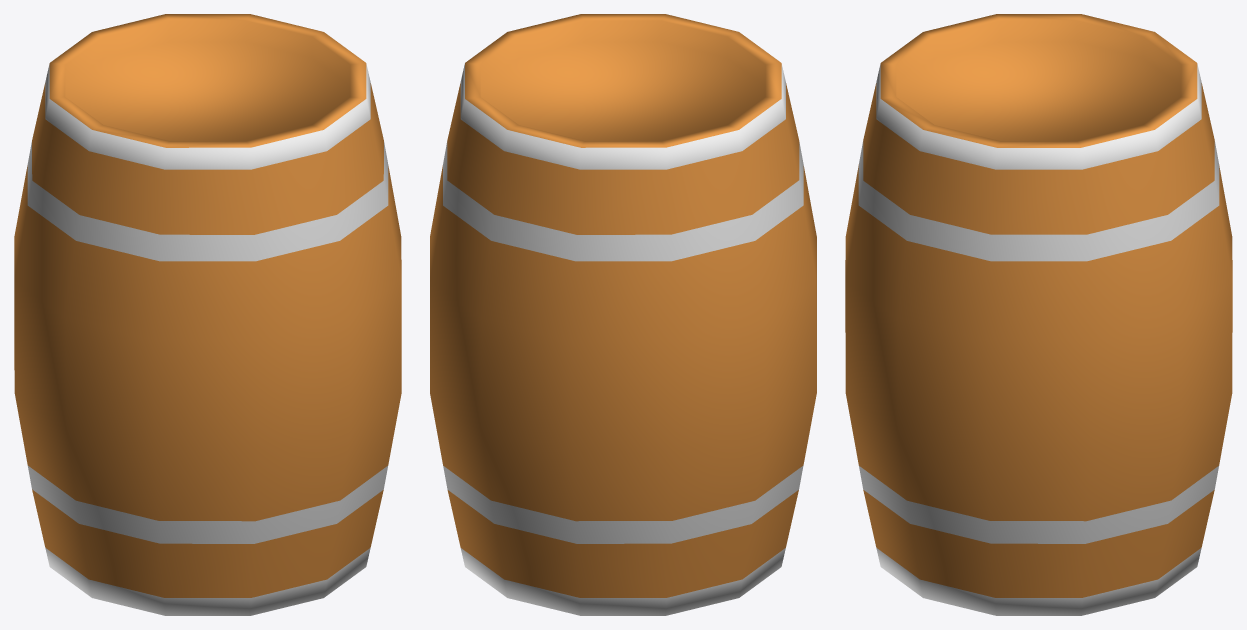
The model's file is Barrel.fbx.
3 views of the same model, side by side, from view 1: azimuth 30°, elevation 25°; view 2: azimuth 150°, elevation 25°; view 3: azimuth 270°, elevation 25° (orthographic).
Visible parts, largest first — view 1: Barrel; view 2: Barrel; view 3: Barrel.
Part boxes in pixels (box(x1,y1,x2,y2)): Barrel: box(14, 14, 401, 615); Barrel: box(430, 14, 816, 615); Barrel: box(845, 14, 1232, 615).
Bounding box in the file's own units: 60 × 60 × 80.
